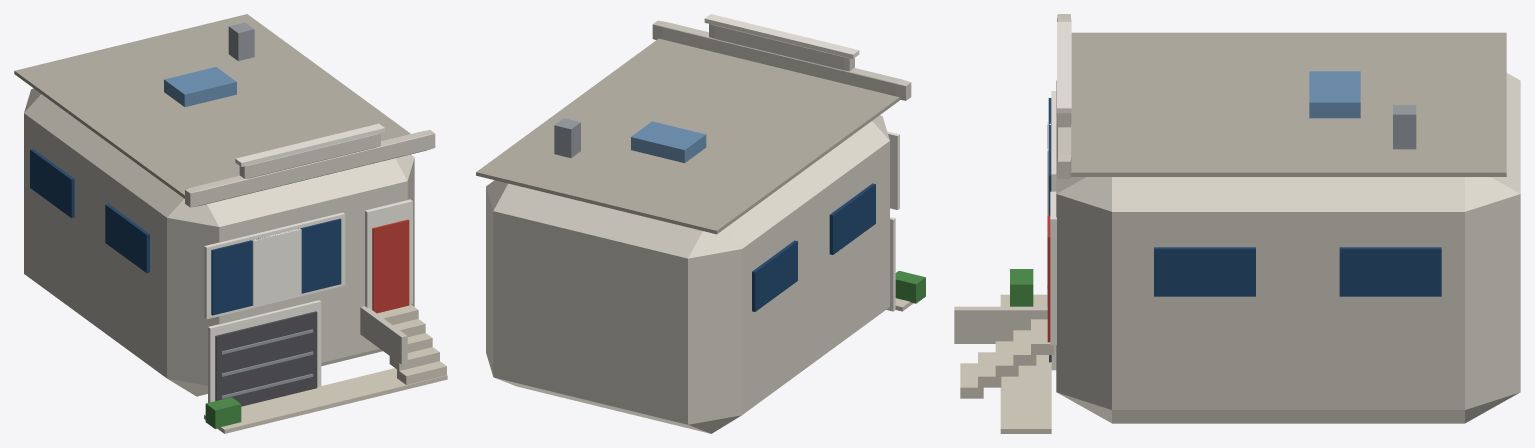
Rendered from sunset_w7_stepped_pic.glb.
The picture shows the model from 3 angles, left to right: view 1: azimuth 30°, elevation 25°; view 2: azimuth 150°, elevation 25°; view 3: azimuth 270°, elevation 25°; orthographic projection. The views are drawn at different scales.
Visible parts, largest first — view 1: walls, roofslab, gdoor, pwin, pp1, patio, door, pmull, gfr, pfr, skylt, pp2 (+10 smaller); view 2: walls, roofslab, pp1, skylt, pp2, sb, sb.002, pcap, pipe, hedge, pfr, gfr; view 3: walls, roofslab, sb.003, sb.001, patio, srail, skylt, pcap, dfr, pipe, hedge, pp1 (+6 smaller).
Boxes of the visible parts, bbox=[...] form: walls: bbox=[24, 88, 414, 396]; roofslab: bbox=[14, 14, 410, 198]; gdoor: bbox=[215, 311, 317, 406]; pwin: bbox=[211, 218, 341, 315]; pp1: bbox=[185, 130, 435, 207]; patio: bbox=[204, 368, 447, 433]; door: bbox=[372, 219, 409, 313]; pmull: bbox=[255, 229, 297, 304]; gfr: bbox=[208, 300, 321, 402]; pfr: bbox=[204, 212, 345, 319]; skylt: bbox=[164, 67, 236, 106]; pp2: bbox=[239, 133, 380, 178]; walls: bbox=[486, 115, 889, 433]; roofslab: bbox=[476, 38, 899, 234]; pp1: bbox=[652, 20, 911, 100]; skylt: bbox=[631, 121, 706, 163]; pp2: bbox=[709, 24, 854, 71]; sb: bbox=[829, 183, 875, 254]; sb.002: bbox=[752, 240, 797, 311]; pcap: bbox=[704, 14, 859, 58]; pipe: bbox=[554, 118, 580, 157]; hedge: bbox=[895, 271, 925, 303]; pfr: bbox=[887, 131, 899, 209]; gfr: bbox=[886, 217, 895, 311]; walls: bbox=[1056, 73, 1520, 423]; roofslab: bbox=[1071, 32, 1506, 176]; sb.003: bbox=[1339, 247, 1441, 296]; sb.001: bbox=[1154, 247, 1255, 296]; patio: bbox=[1000, 294, 1051, 433]; srail: bbox=[954, 306, 1047, 343]; skylt: bbox=[1309, 71, 1360, 118]; pcap: bbox=[1057, 22, 1071, 113]; dfr: bbox=[1050, 191, 1056, 345]; pipe: bbox=[1393, 105, 1416, 149]; hedge: bbox=[1010, 269, 1033, 306]; pp1: bbox=[1057, 14, 1071, 178].
Bounding box in the file's own units: 7.8 × 7.17 × 12.2.
